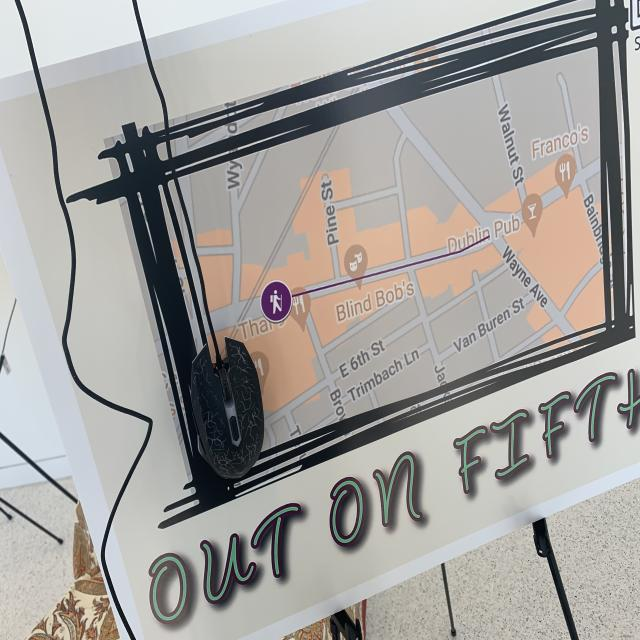Mouse: (180, 333, 270, 489)
